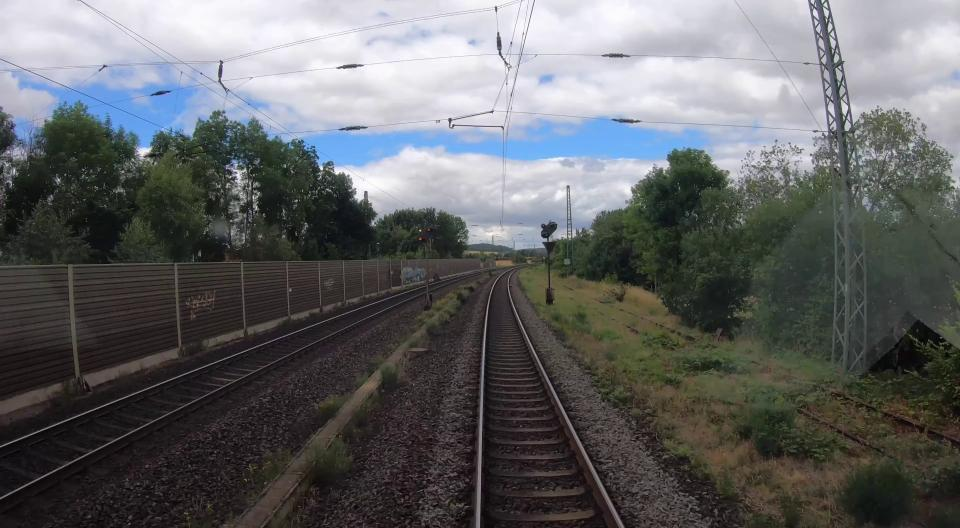Plant: (341, 389, 382, 442), (429, 283, 476, 329), (310, 437, 352, 484), (254, 448, 294, 486), (316, 396, 348, 425), (378, 363, 406, 392), (184, 503, 214, 528), (408, 304, 435, 330), (403, 333, 434, 349), (354, 370, 371, 389), (372, 356, 384, 369), (356, 419, 364, 425)
